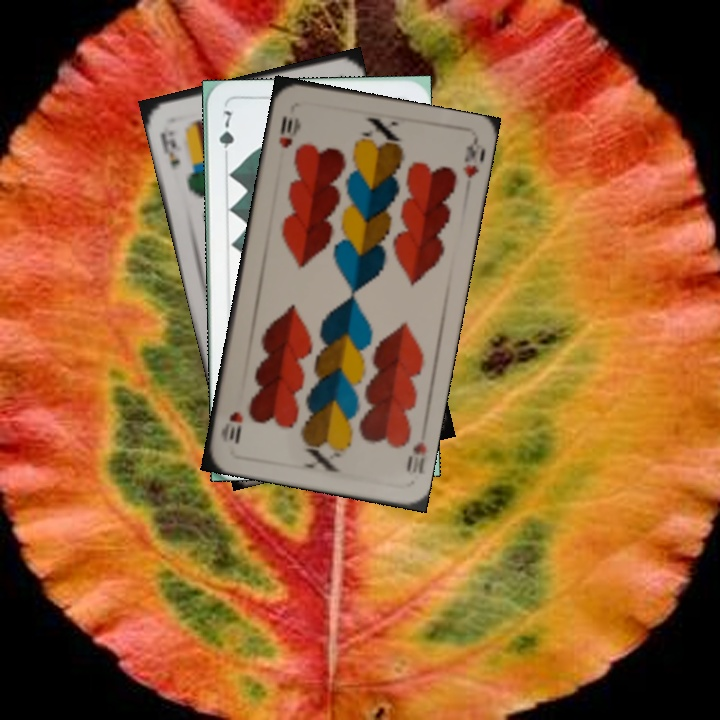EK: (156, 129, 183, 172)
G7: (215, 106, 237, 164)
H10: (274, 111, 302, 151), (402, 437, 429, 478)
